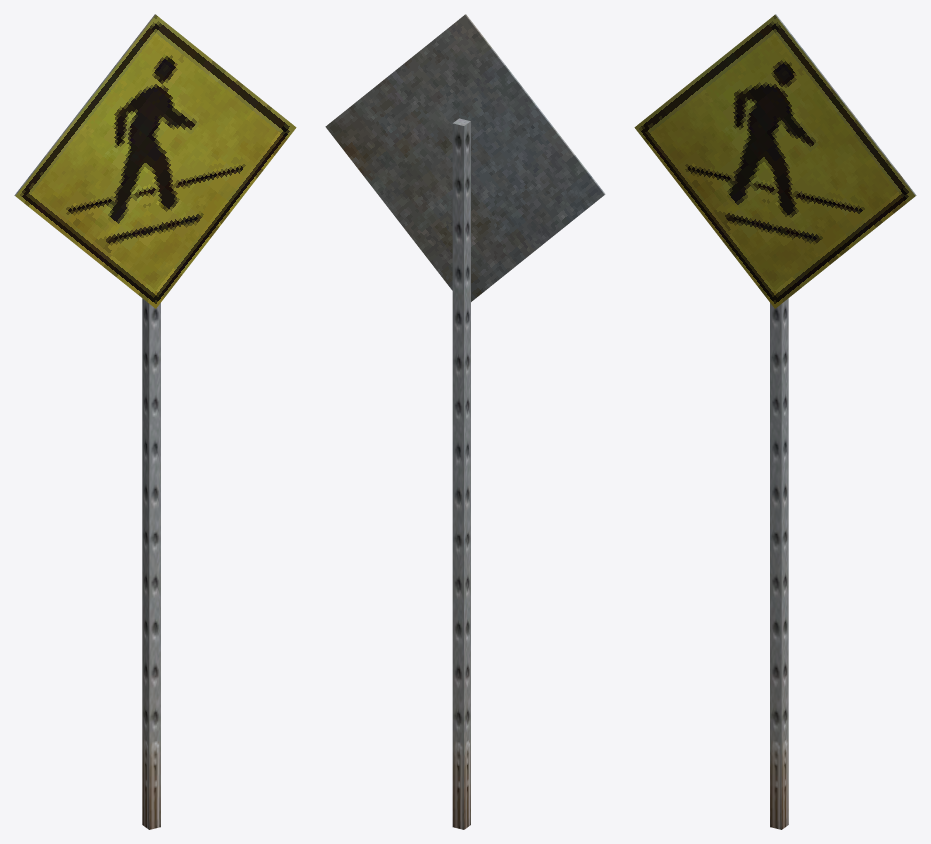
File: crosswalk.fbx
3 views of the same model, side by side, from view 1: azimuth 30°, elevation 25°; view 2: azimuth 150°, elevation 25°; view 3: azimuth 330°, elevation 25° (orthographic).
Visible parts, largest first — view 1: mesh_2, mesh_0; view 2: mesh_1, mesh_0; view 3: mesh_2, mesh_0.
Boxes of the visible parts, left/top/right/bottom form: mesh_2: left=15, top=15, right=296, bottom=308; mesh_0: left=142, top=298, right=160, bottom=829; mesh_1: left=325, top=14, right=605, bottom=301; mesh_0: left=452, top=118, right=470, bottom=829; mesh_2: left=634, top=15, right=915, bottom=308; mesh_0: left=770, top=298, right=788, bottom=829.
Size of the model in its own units: 107 by 297 by 5.06.
Materials: 3 (3 with a texture image).
